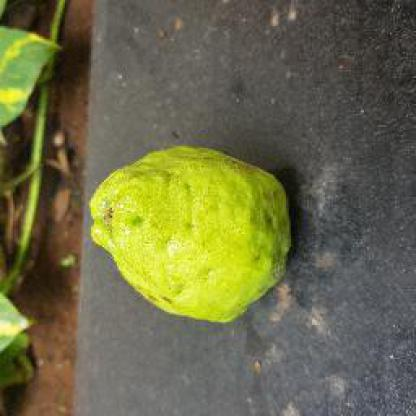guava: (80, 144, 296, 324)
